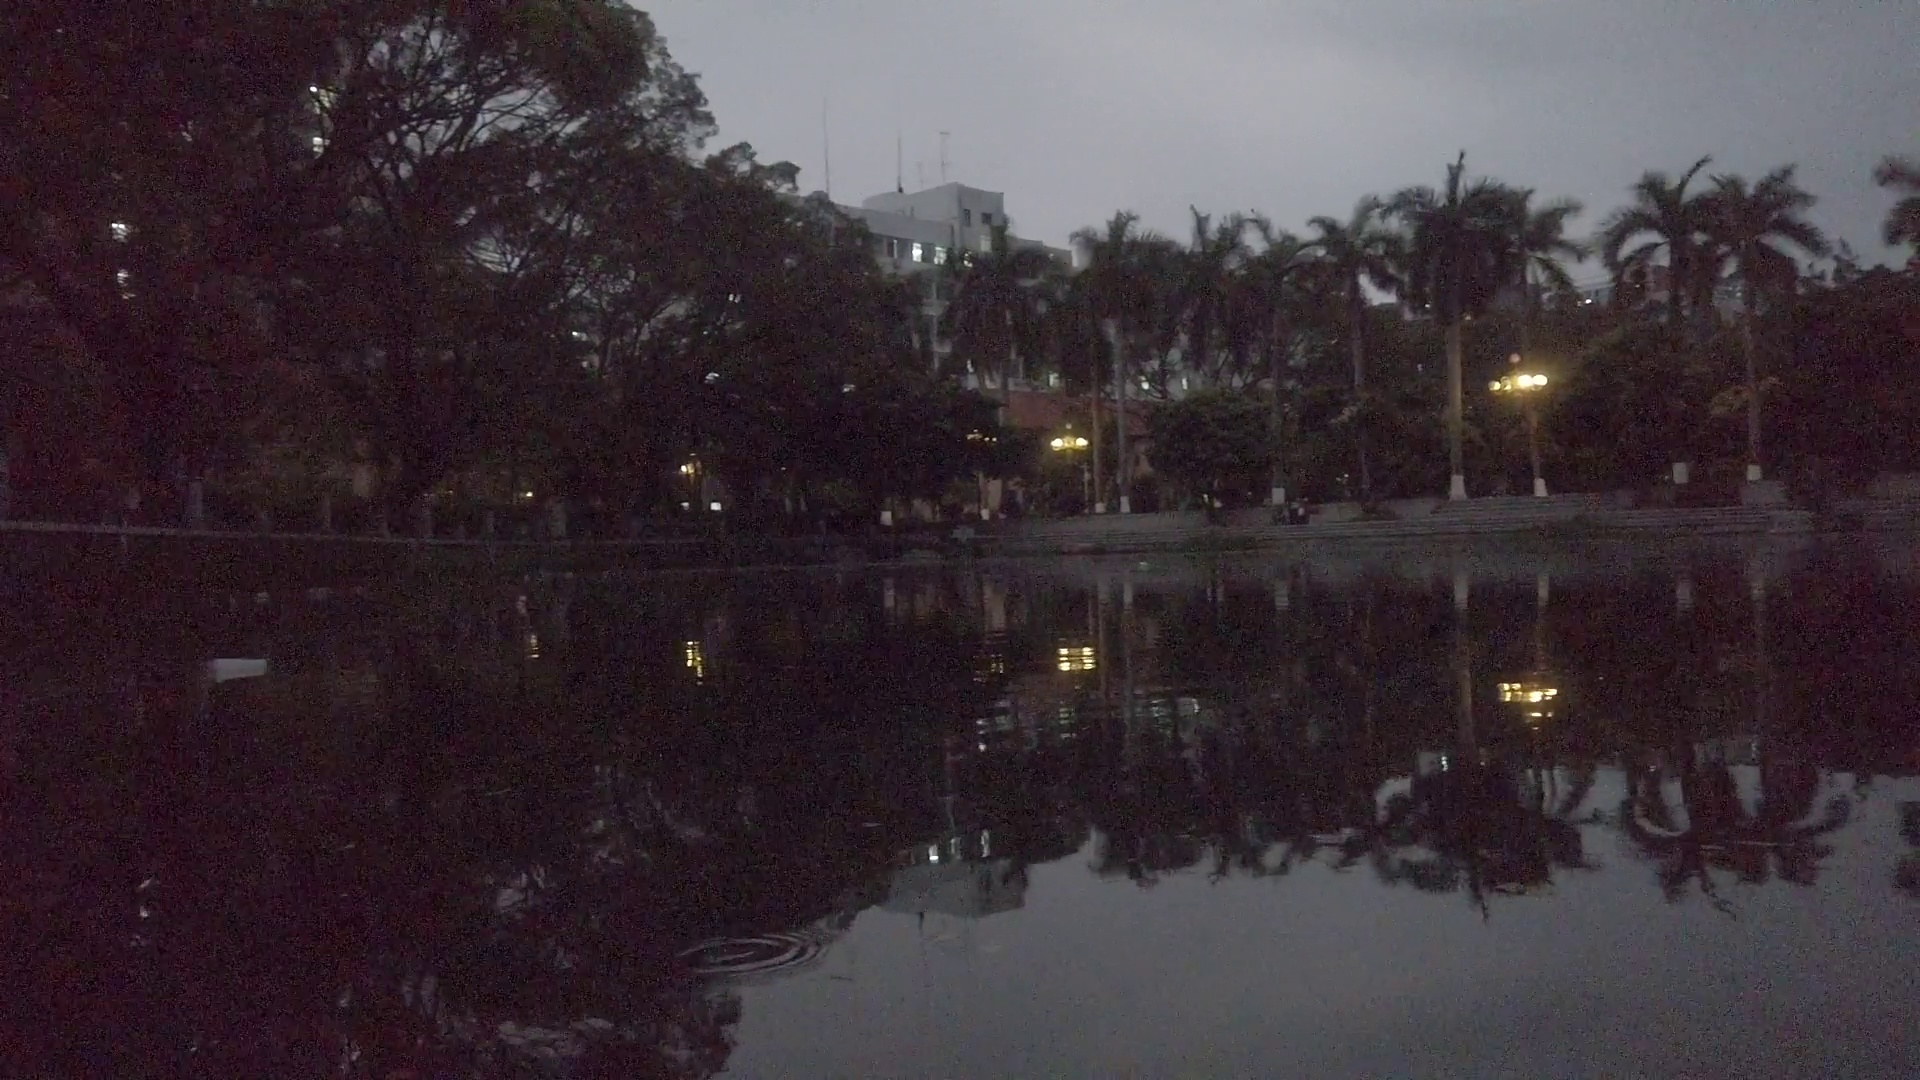bottle: (1135, 555, 1153, 568)
carton: (206, 657, 266, 678)
